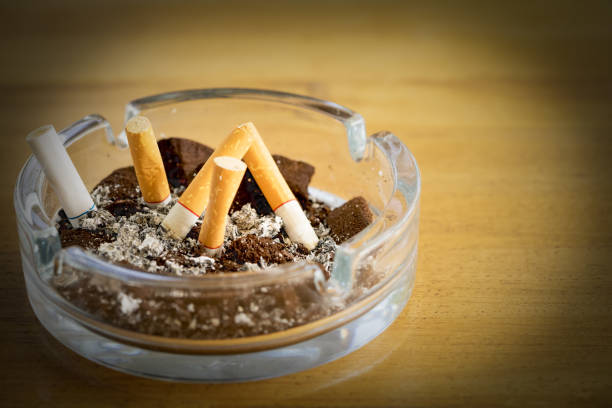cigarette: (238, 121, 319, 252), (160, 128, 252, 243), (27, 124, 100, 230), (194, 155, 247, 257), (124, 115, 172, 209)
